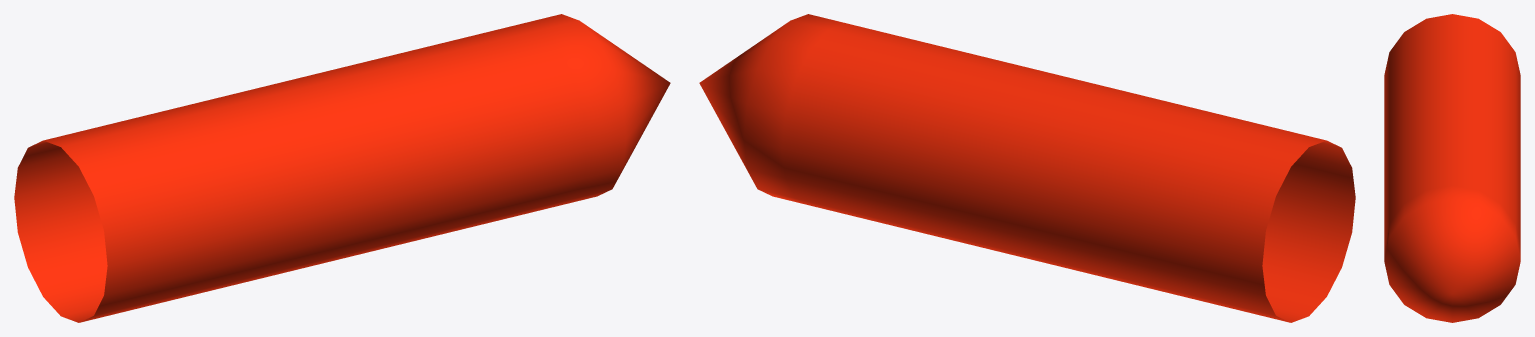
File: SonicRightElbow.obj
The picture shows the model from 3 angles, left to right: view 1: azimuth 30°, elevation 25°; view 2: azimuth 150°, elevation 25°; view 3: azimuth 270°, elevation 25°; orthographic projection. The views are drawn at different scales.
Visible parts, largest first — view 1: Cylinder_2_2.002; view 2: Cylinder_2_2.002; view 3: Cylinder_2_2.002.
Boxes of the visible parts, box(x1,y1,x2,y2) form: Cylinder_2_2.002: box(14, 14, 670, 322); Cylinder_2_2.002: box(699, 14, 1355, 322); Cylinder_2_2.002: box(1384, 14, 1520, 322).
Size of the model in its own units: 0.5974 by 0.1584 by 0.1584.
